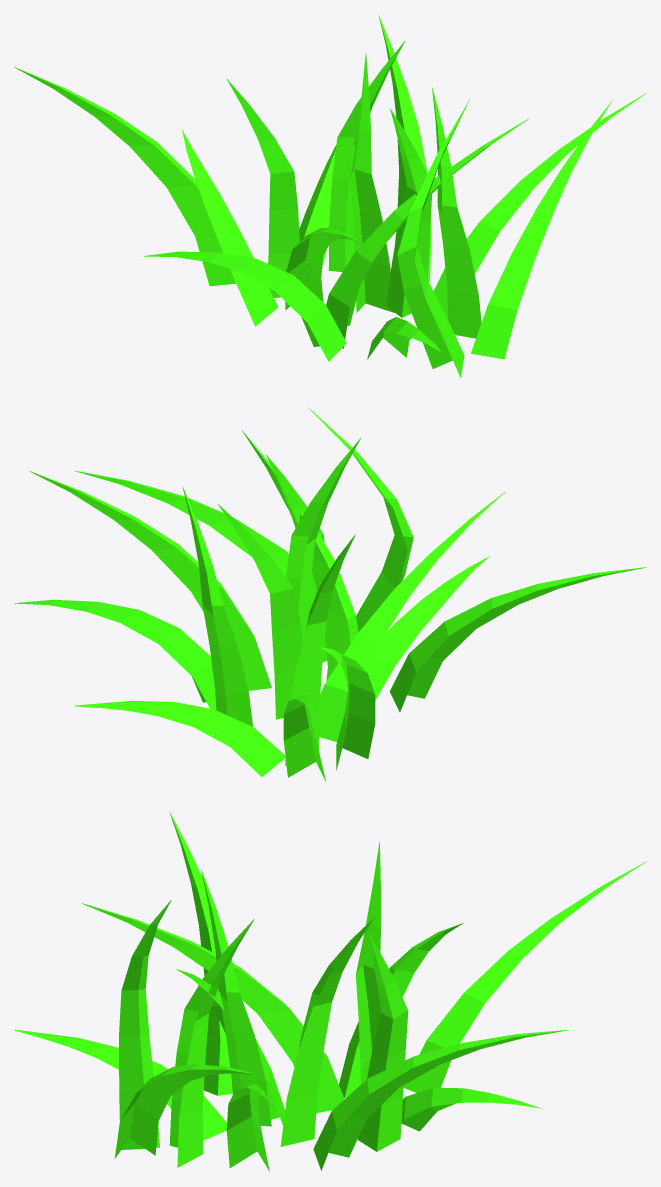
The model's file is PAST.fbx.
The picture shows the model from 3 angles, top to bottom: view 1: azimuth 30°, elevation 25°; view 2: azimuth 150°, elevation 25°; view 3: azimuth 270°, elevation 25°; orthographic projection. The views are drawn at different scales.
Visible parts, largest first — view 1: Plane.005, Plane.006, Plane.001, Plane.011, Plane.007, Plane.016, Plane.008, Plane.010, Plane.003, Plane.002, Plane.012, Plane.013 (+4 smaller); view 2: Plane.016, Plane.012, Plane.003, Plane.009, Plane.007, Plane.004, Plane.015, Plane.013, Plane.008, Plane.014, Plane.001, Plane.010 (+4 smaller); view 3: Plane.015, Plane.011, Plane.007, Plane.009, Plane.006, Plane.003, Plane.001, Plane.013, Plane.005, Plane.008, Plane.016, Plane.012 (+4 smaller).
Boxes of the visible parts, x1,y1,x2,y2 form: Plane.005: [471, 100, 612, 359]; Plane.006: [14, 67, 235, 286]; Plane.001: [397, 99, 469, 377]; Plane.011: [432, 87, 481, 338]; Plane.007: [350, 52, 394, 312]; Plane.016: [143, 251, 346, 361]; Plane.008: [227, 79, 299, 297]; Plane.010: [326, 118, 529, 348]; Plane.003: [328, 41, 404, 271]; Plane.002: [182, 130, 278, 326]; Plane.012: [433, 93, 646, 319]; Plane.013: [386, 108, 431, 317]; Plane.016: [389, 567, 646, 712]; Plane.012: [29, 471, 271, 690]; Plane.003: [182, 487, 252, 746]; Plane.009: [319, 491, 505, 741]; Plane.007: [217, 503, 302, 719]; Plane.004: [75, 701, 285, 776]; Plane.015: [14, 599, 216, 709]; Plane.013: [286, 438, 360, 641]; Plane.008: [285, 534, 355, 765]; Plane.014: [366, 556, 489, 700]; Plane.001: [308, 407, 413, 632]; Plane.010: [242, 430, 358, 680]; Plane.015: [313, 1030, 568, 1170]; Plane.011: [169, 919, 254, 1167]; Plane.007: [280, 918, 373, 1146]; Plane.009: [81, 903, 344, 1113]; Plane.006: [403, 861, 646, 1092]; Plane.003: [358, 932, 408, 1151]; Plane.001: [119, 900, 171, 1149]; Plane.013: [201, 869, 271, 1126]; Plane.005: [114, 1064, 259, 1158]; Plane.008: [355, 842, 381, 1084]; Plane.016: [169, 812, 232, 1095]; Plane.012: [226, 1083, 269, 1171].
Bounding box in the file's own units: 295 × 131 × 278.
